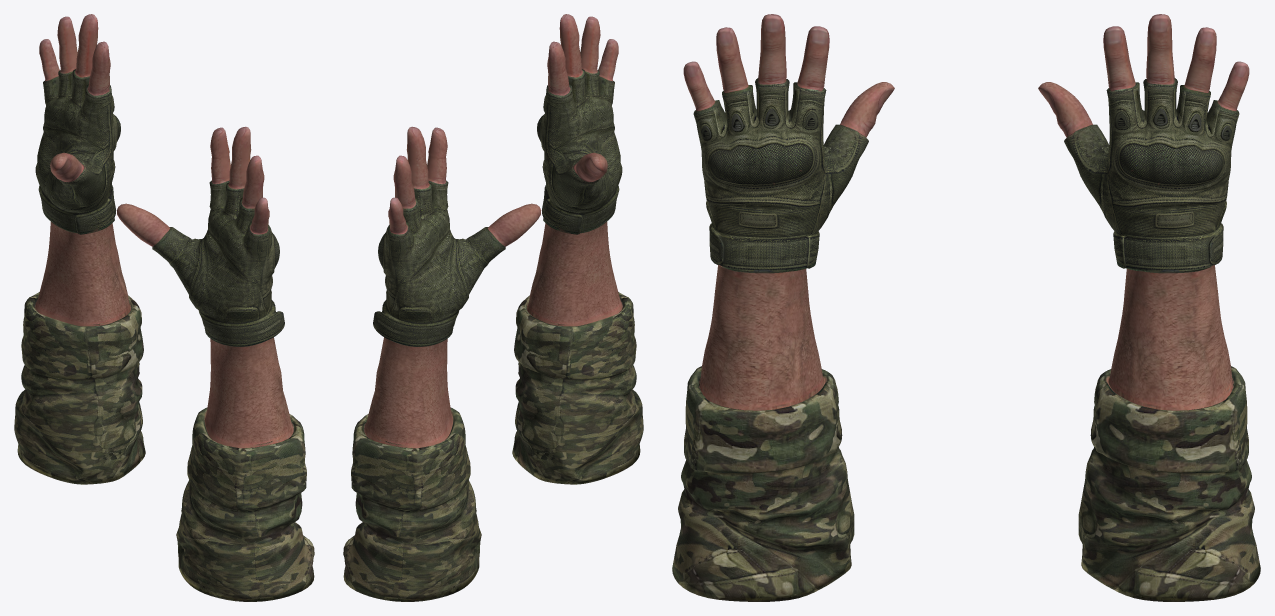
Rendered from arms.glb.
The picture shows the model from 3 angles, left to right: view 1: azimuth 30°, elevation 25°; view 2: azimuth 150°, elevation 25°; view 3: azimuth 270°, elevation 25°; orthographic projection. The views are drawn at different scales.
Parts seen in each view (by area): view 1: low; view 2: low; view 3: low.
Boxes of the visible parts, x1,y1,x2,y2 form: low: [14, 14, 314, 601]; low: [343, 14, 643, 601]; low: [672, 14, 1260, 601].
Bounding box in the file's own units: 0.3149 × 0.9995 × 0.9584.
Materials: 1 (1 with a texture image).
